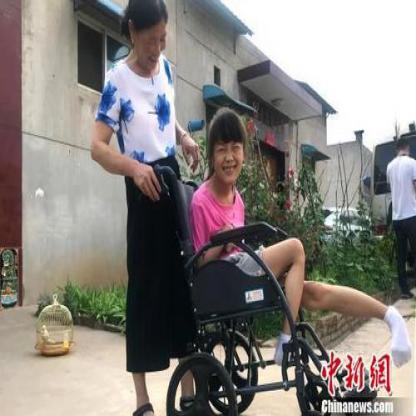wheelchair: (160, 104, 410, 414)
